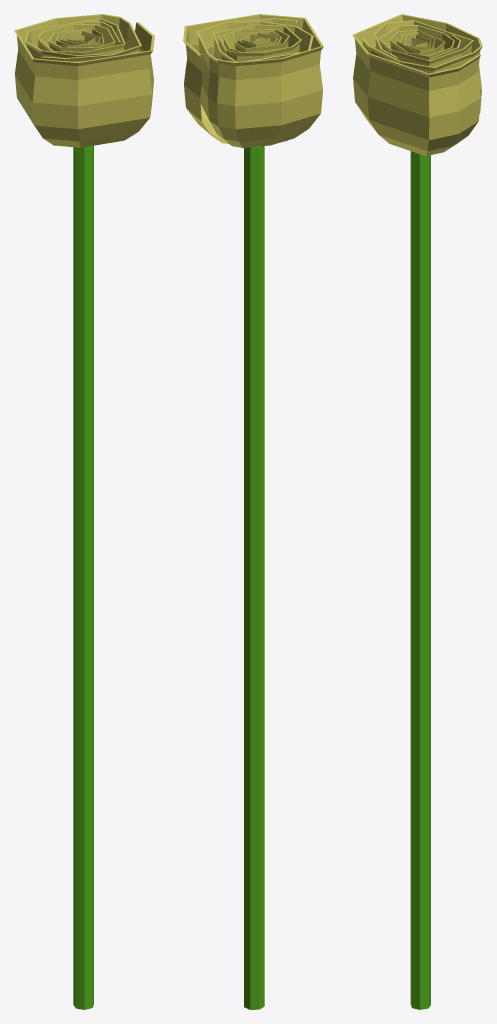
Rendered from rose_tea.dae.
3 views of the same model, side by side, from view 1: azimuth 30°, elevation 25°; view 2: azimuth 210°, elevation 25°; view 3: azimuth 330°, elevation 25° (orthographic).
Parts seen in each view (by area): view 1: Simple_GP_Layer; view 2: Simple_GP_Layer; view 3: Simple_GP_Layer.
Part boxes in pixels (x1,y1,x2,y2): Simple_GP_Layer: (14,14,154,1009); Simple_GP_Layer: (183,14,323,1009); Simple_GP_Layer: (352,14,482,1009).
Size of the model in its own units: 1.29 by 1.1 by 10.11.
